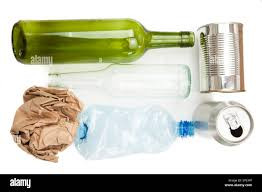glass: (10, 12, 201, 64), (41, 61, 195, 103)
metal: (195, 17, 250, 101), (191, 97, 258, 154)
paper: (14, 85, 82, 163)
plastic: (74, 104, 193, 162)
